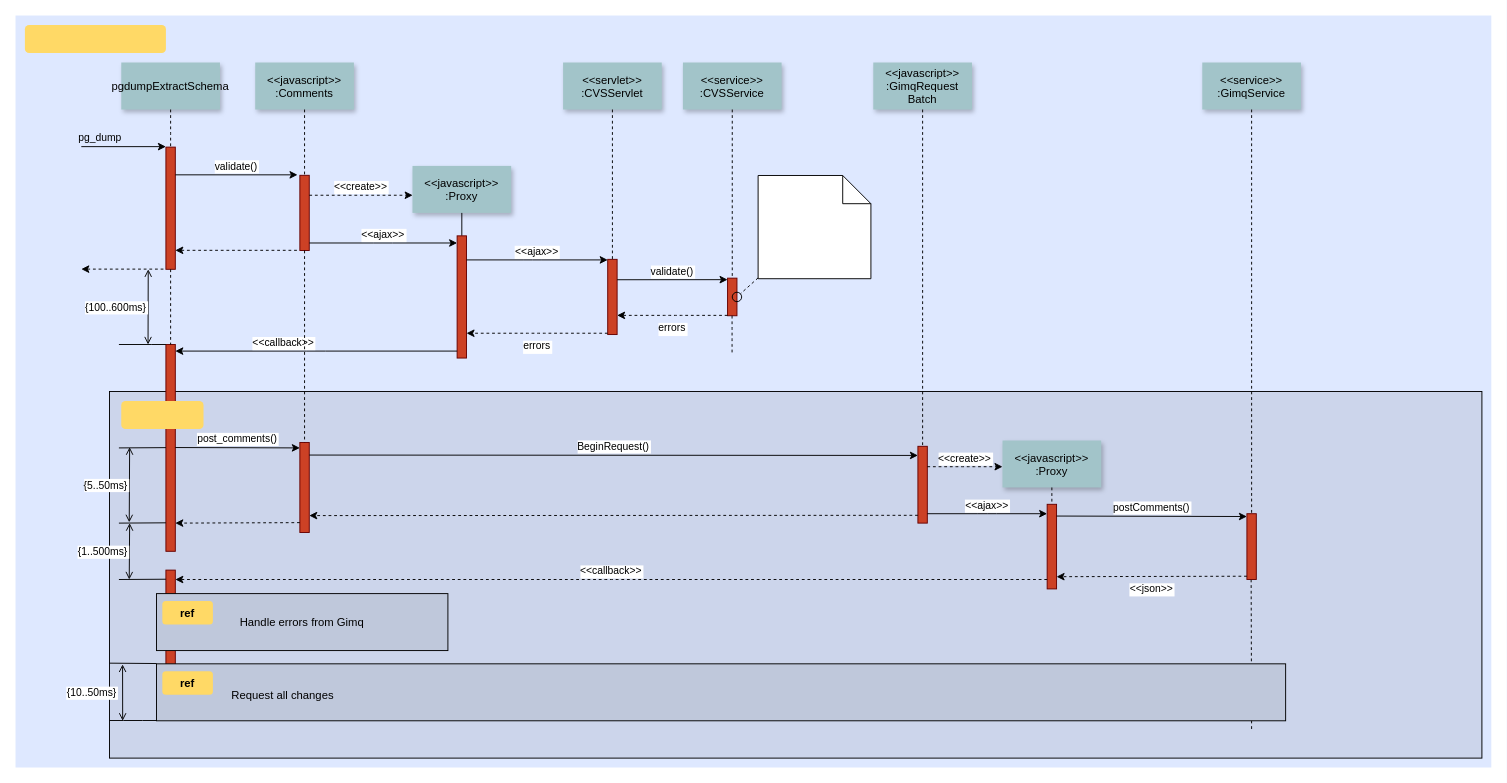
Image size: 1507x783. Some labels were removed from this diagram. Here are the shapes that lost their labels. From the top down, the centre of each, then its label:
At (x=94, y=38): "export schema".
At (x=814, y=227): "- user validation - password check".
At (x=162, y=414): "opt".
